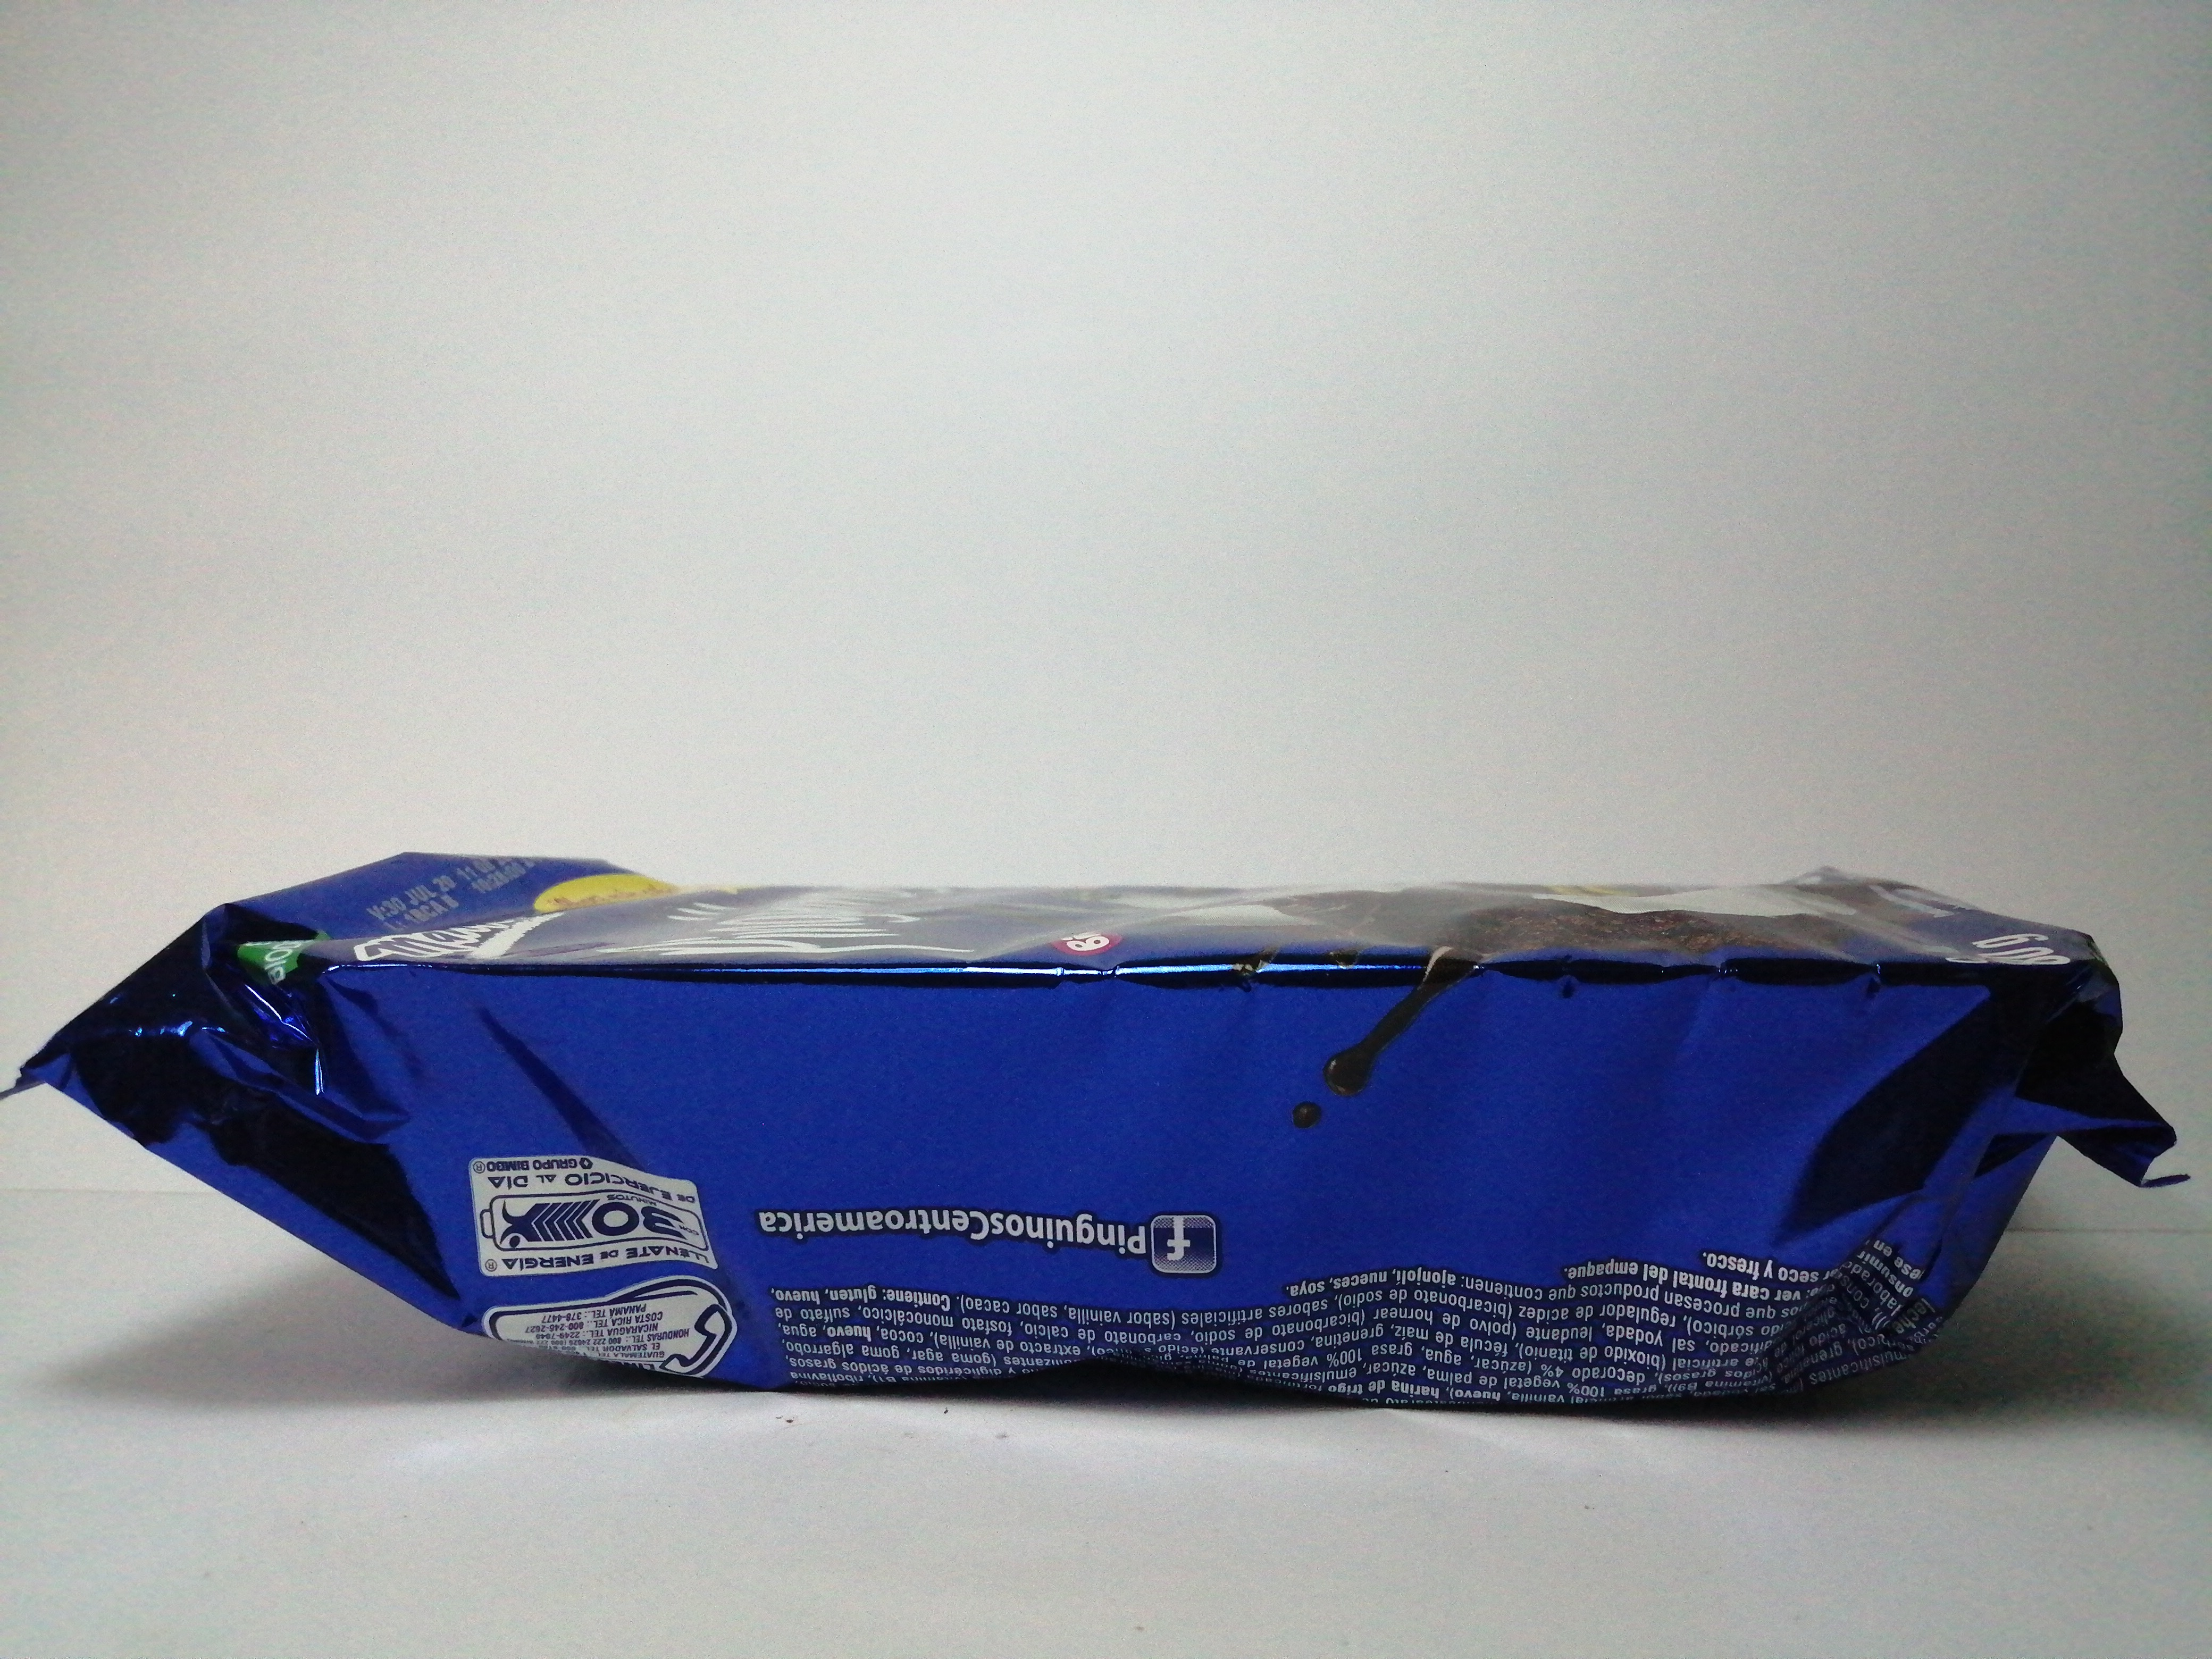pinguino: (23, 852, 2160, 1403)
